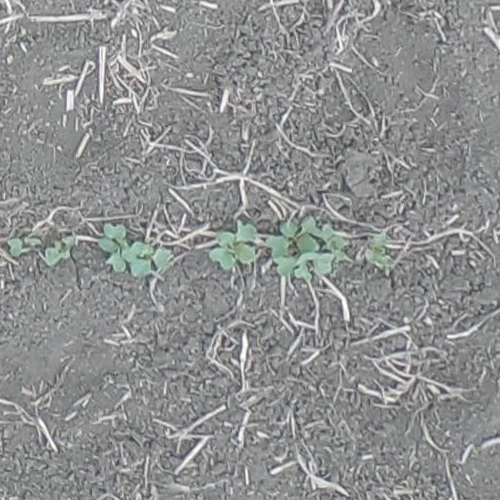plant: (263, 217, 337, 276), (101, 223, 170, 276), (211, 223, 259, 270), (363, 229, 391, 267), (44, 236, 77, 266), (7, 235, 35, 256)
